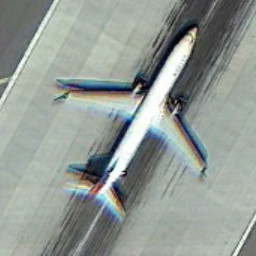Airplane: (44, 8, 215, 229)
